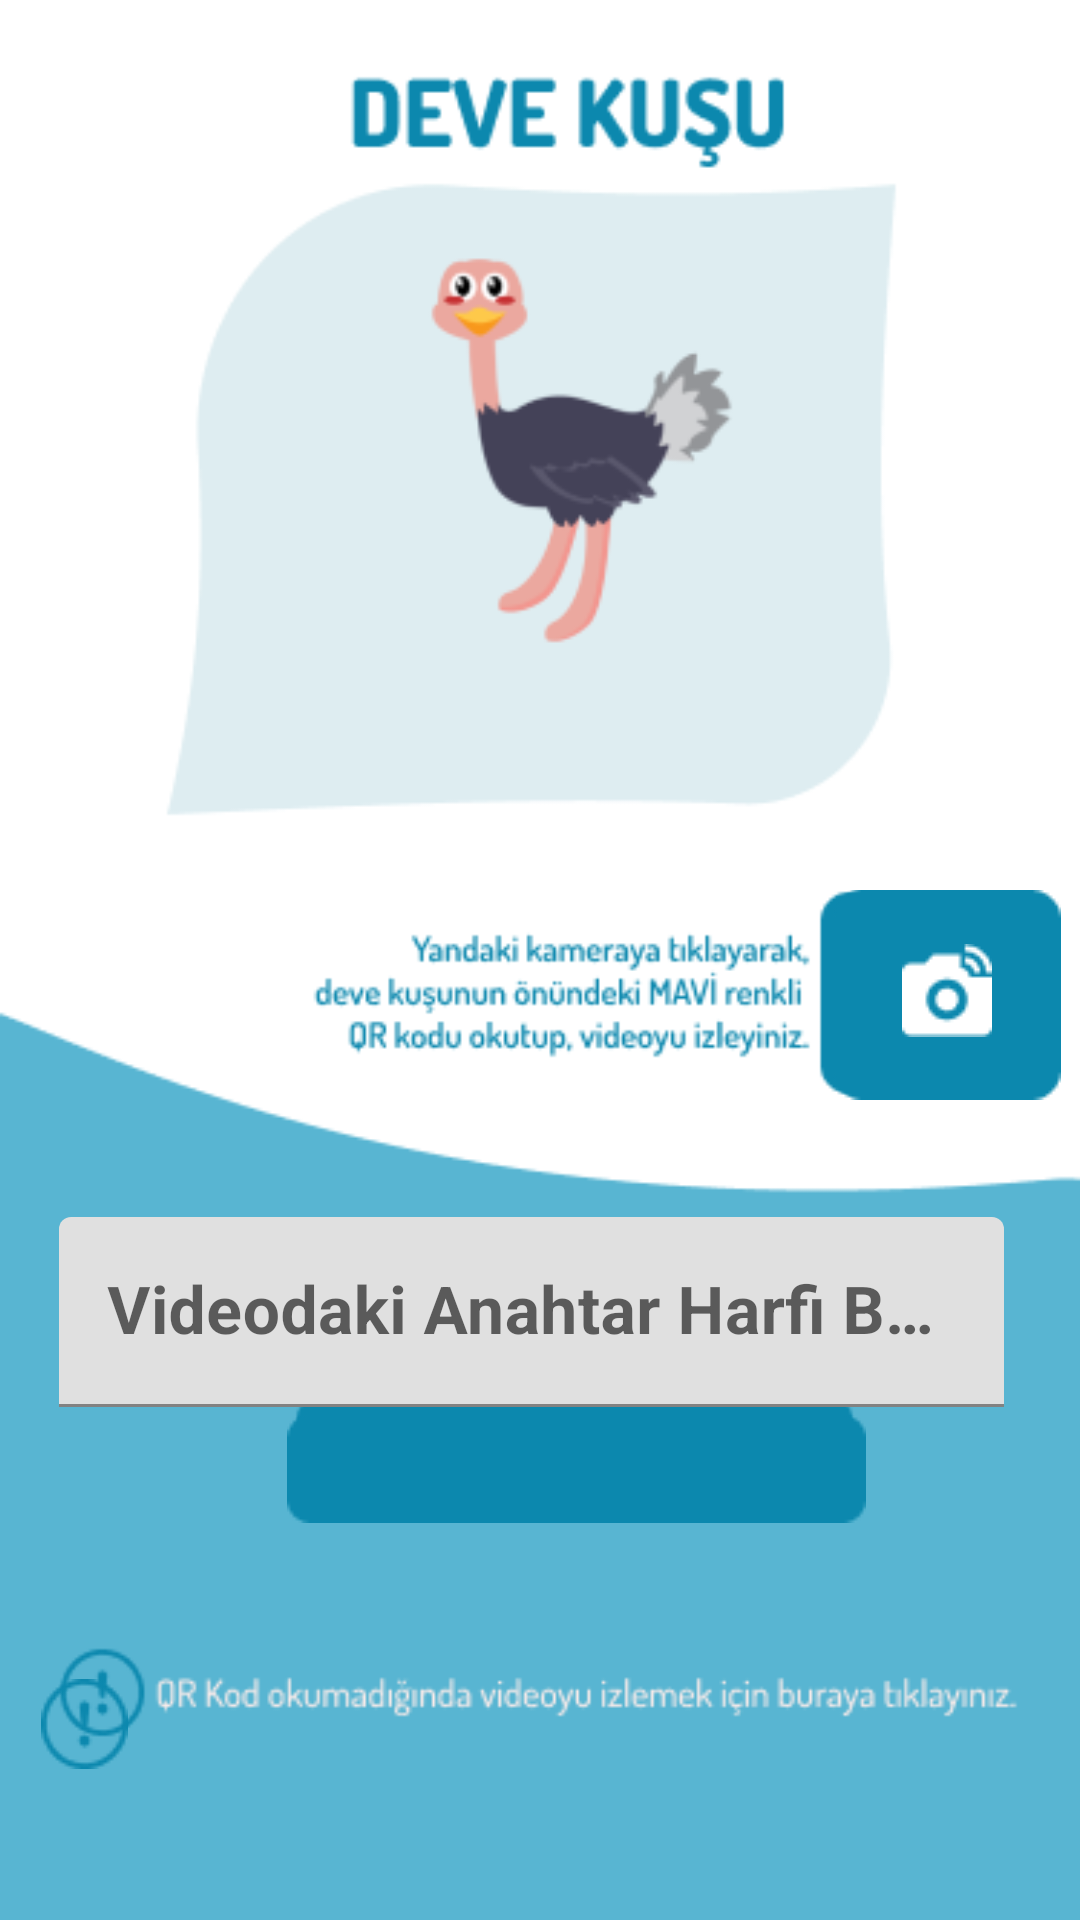

Screen size 1080w x 1920h. Icon name, then its center in pixels as (x,y):
kamera: (947,990)
